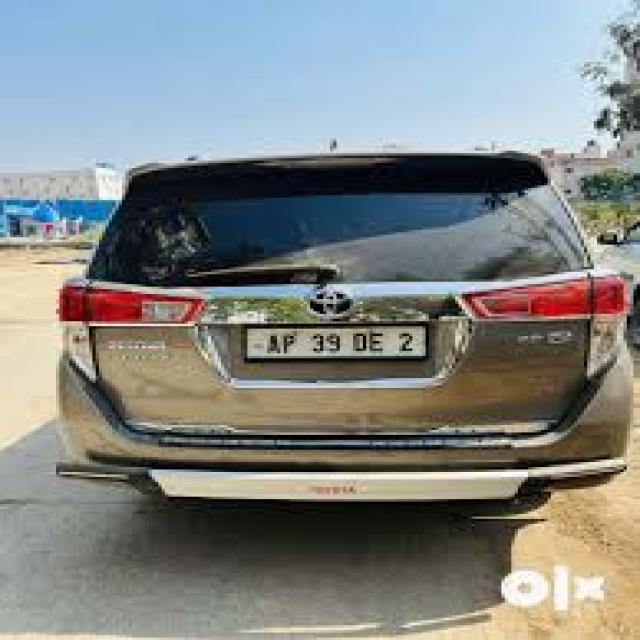Car: (60, 154, 627, 501)
